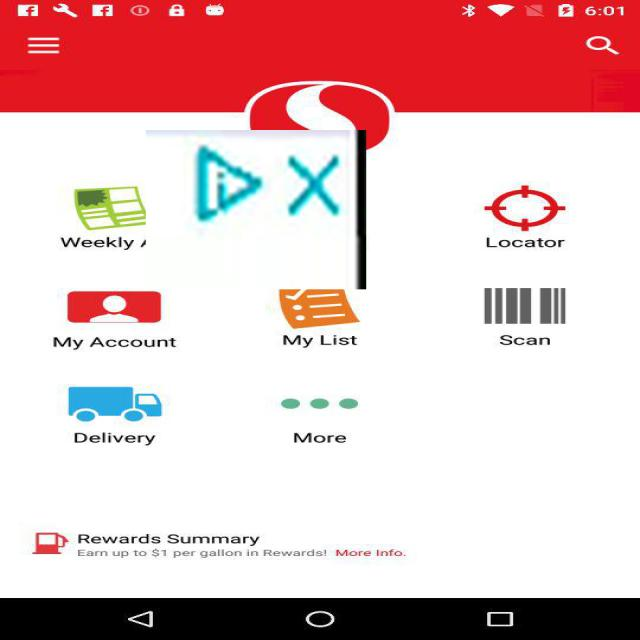sneaking: (146, 130, 366, 289)
